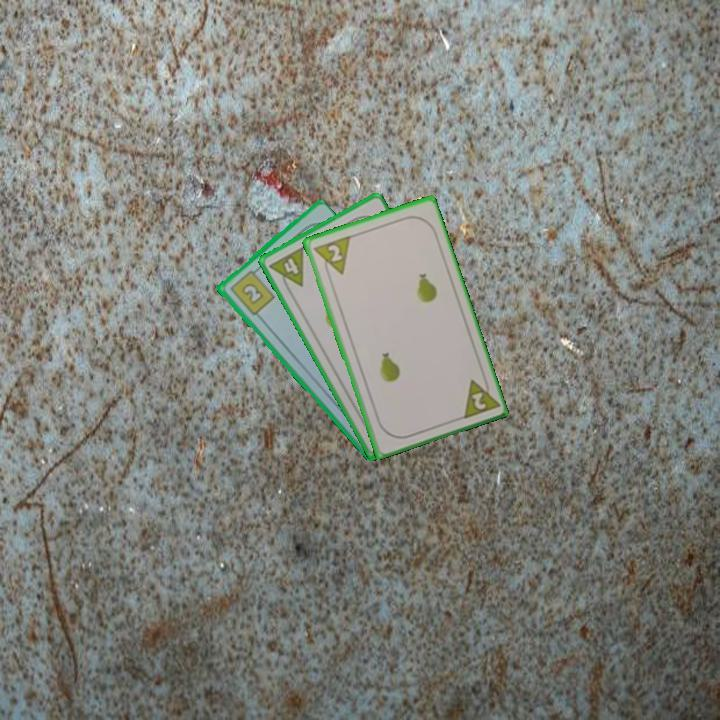2b: (226, 264, 277, 318)
2p: (309, 232, 353, 281), (457, 372, 500, 422)
4p: (266, 243, 306, 296)
